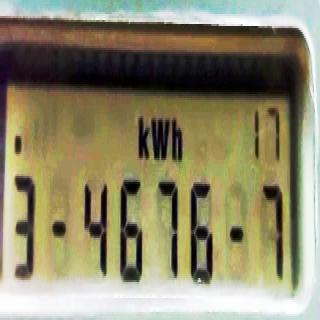-: (228, 216, 244, 250), (52, 212, 68, 245), (14, 131, 23, 157)
1: (253, 101, 260, 166)
3: (13, 168, 35, 287)
4: (83, 173, 111, 290)
6: (118, 172, 144, 292), (188, 174, 214, 293)
7: (262, 172, 286, 287), (158, 172, 181, 281), (267, 96, 282, 166)
